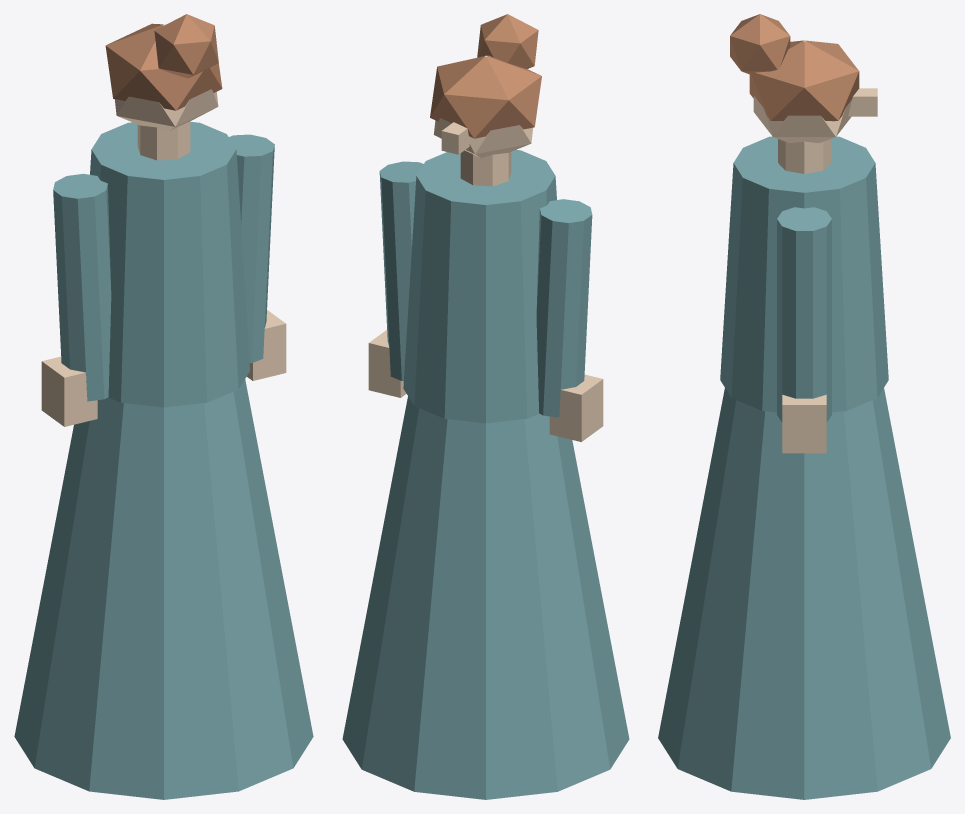
Rendered from young_woman.glb.
3 renders of one model, left to right at view 1: azimuth 30°, elevation 25°; view 2: azimuth 150°, elevation 25°; view 3: azimuth 270°, elevation 25°, orthographic. The views are drawn at different scales.
Visible parts, largest first — view 1: young_woman; view 2: young_woman; view 3: young_woman.
Boxes of the visible parts, box(x1,y1,x2,y2) form: young_woman: box(14, 14, 313, 799); young_woman: box(342, 14, 629, 799); young_woman: box(658, 14, 950, 799).
Bounding box in the file's own units: 0.6468 × 1.76 × 0.6468.
